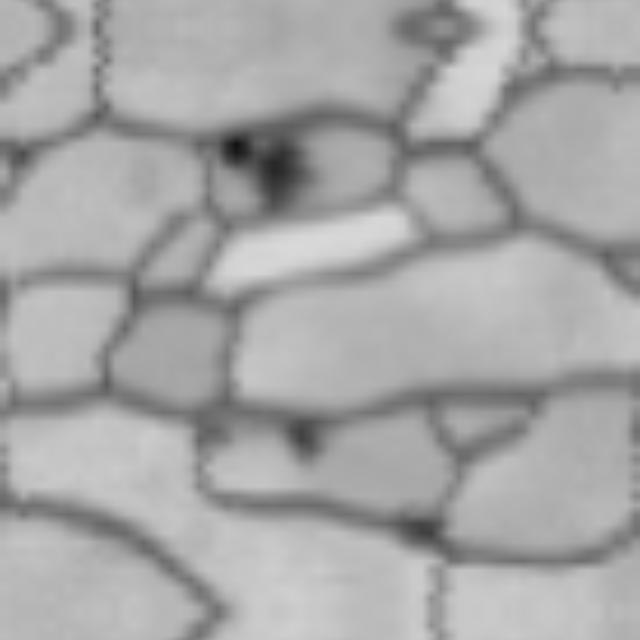good_void: (214, 123, 329, 218), (268, 407, 344, 471), (381, 498, 454, 559)
